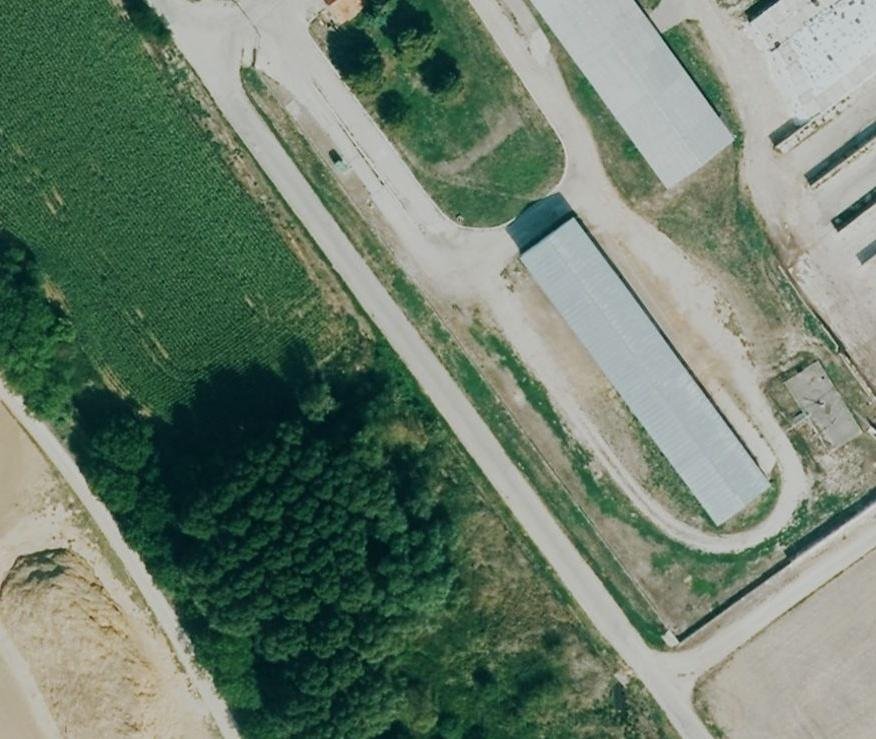field: (0, 2, 325, 413), (0, 380, 236, 737)
forest: (0, 229, 459, 737)
